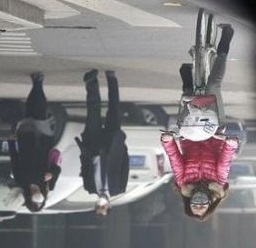person: (162, 21, 240, 219), (76, 67, 130, 219), (8, 72, 63, 213)
